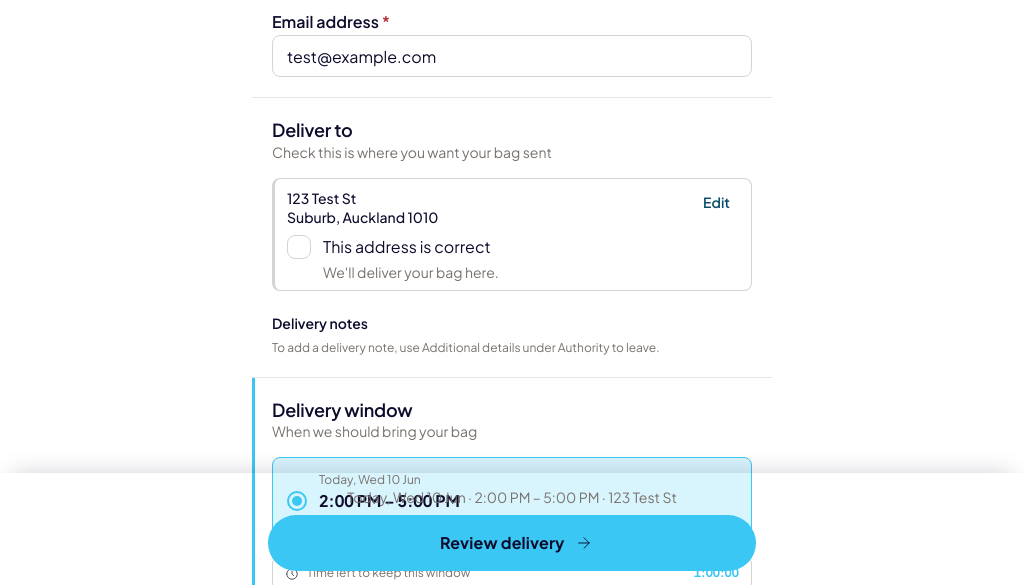
it: PaxMobile — Authority to Leave submit › blocks submit and prompts for a country when the stored one is unresolved
(page scrolled)
Check: the button "Review delivery" is enabled, box [268, 515, 756, 571]
Click the button "Edit": (717, 202) [694, 189, 739, 215]
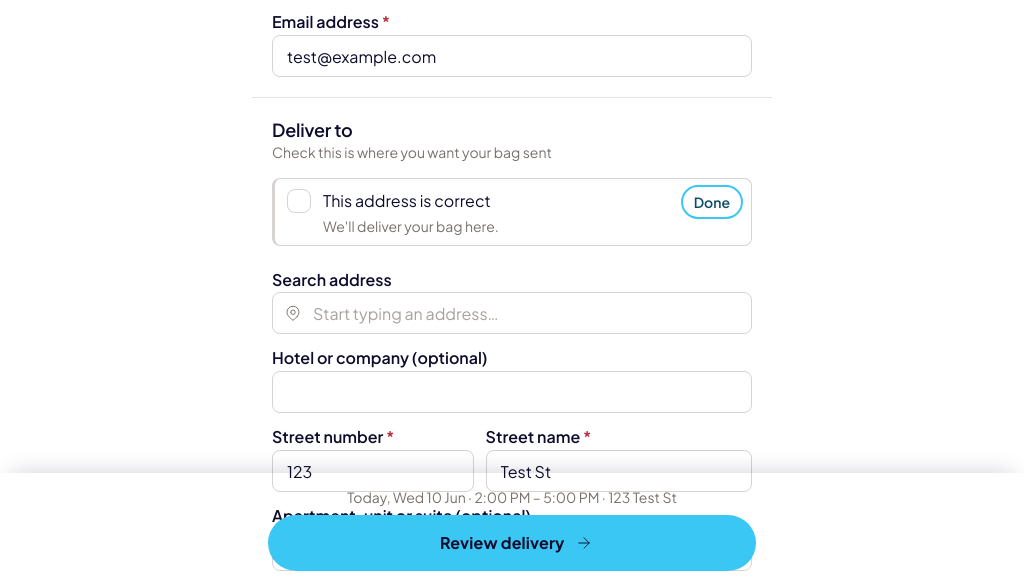
Check: the field labelled "Street name *" is shown, box [486, 450, 752, 492]
Click the checkbox labelled "This address is correct": (299, 201) [287, 189, 311, 213]
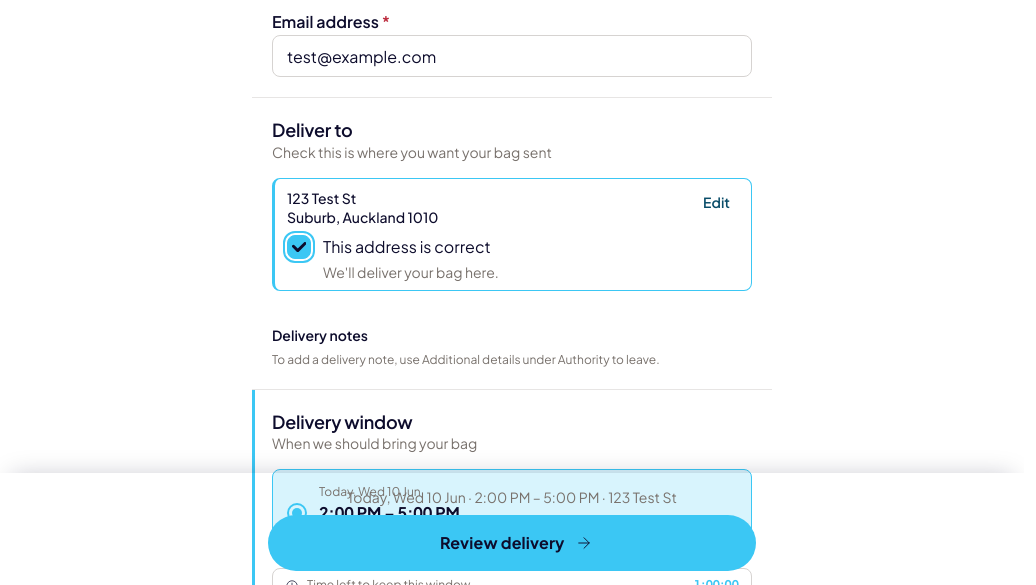
Click the button "Review delivery": (512, 543) [268, 515, 756, 571]
(page scrolled)
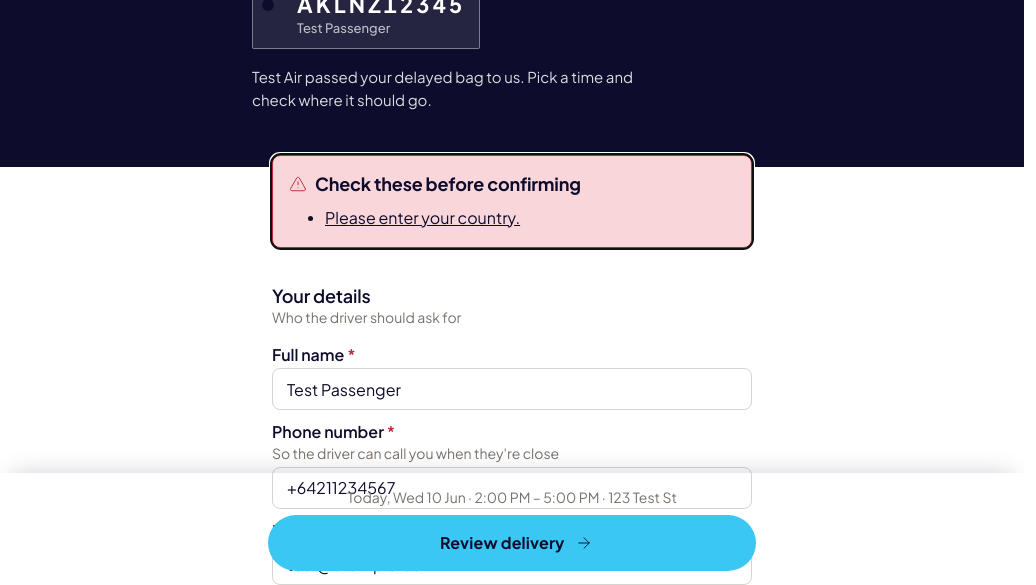
Check: the link "Please enter your country." is shown, box [325, 207, 520, 228]
